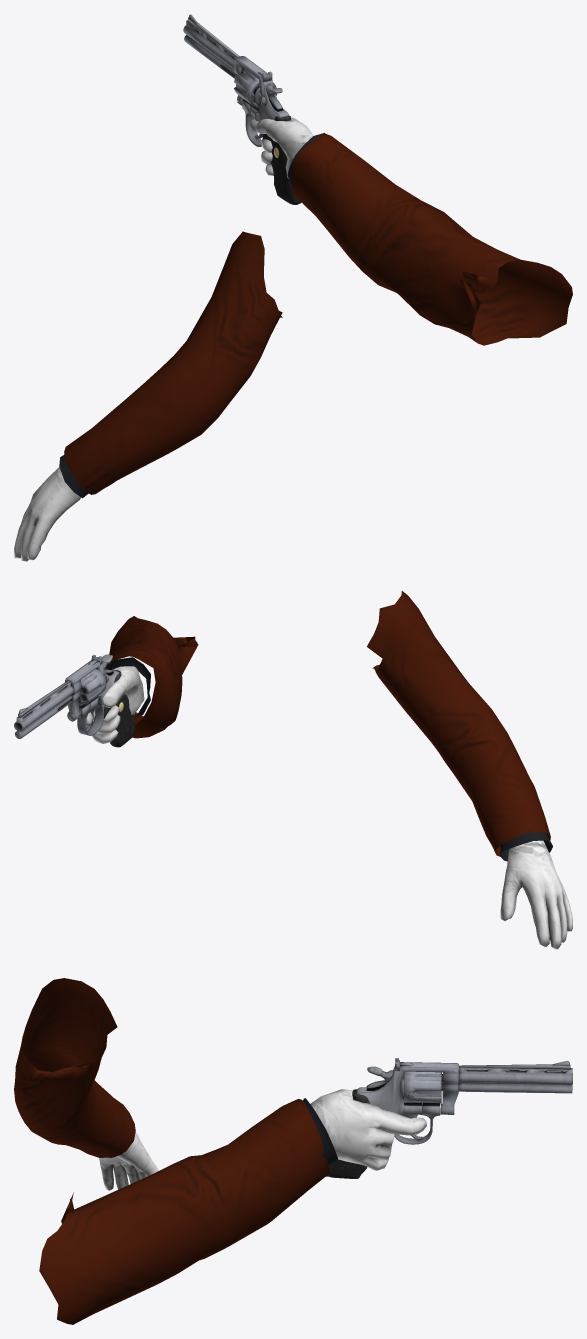
File: frame_12.obj
The picture shows the model from 3 angles, top to bottom: view 1: azimuth 30°, elevation 25°; view 2: azimuth 150°, elevation 25°; view 3: azimuth 270°, elevation 25°; orthographic projection. The views are drawn at different scales.
Parts seen in each view (by area): view 1: PlayerModelMerged.001_PlayerModelMerged, Plane.008_meshId0_name; view 2: PlayerModelMerged.001_PlayerModelMerged, Plane.008_meshId0_name, Plane.001_meshId0_name.001; view 3: PlayerModelMerged.001_PlayerModelMerged, Plane.008_meshId0_name, Plane.001_meshId0_name.001.
Part boxes in pixels (box(x1,y1,x2,y2)): PlayerModelMerged.001_PlayerModelMerged: box(14, 117, 572, 561); Plane.008_meshId0_name: box(183, 14, 301, 204); PlayerModelMerged.001_PlayerModelMerged: box(86, 591, 572, 949); Plane.008_meshId0_name: box(14, 655, 135, 747); Plane.001_meshId0_name.001: box(79, 669, 106, 706); PlayerModelMerged.001_PlayerModelMerged: box(14, 978, 426, 1324); Plane.008_meshId0_name: box(328, 1058, 572, 1178); Plane.001_meshId0_name.001: box(404, 1071, 442, 1103).
Size of the model in its own units: 1.14 by 0.6535 by 0.9907.
